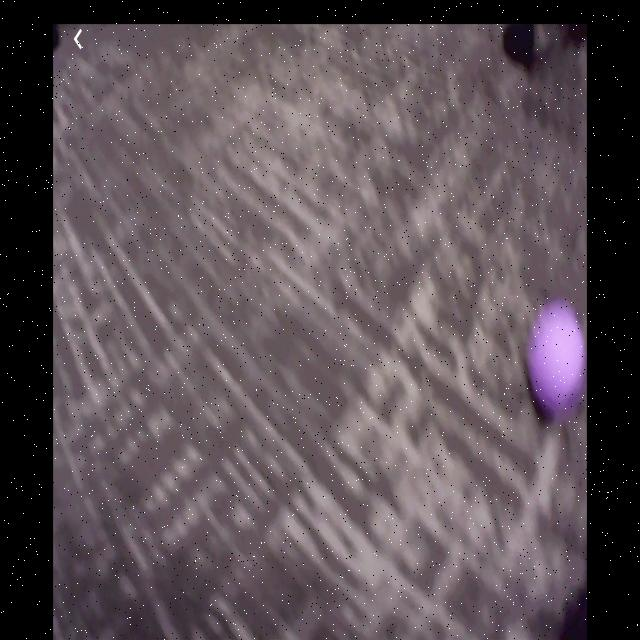ball: (529, 303, 582, 412)
